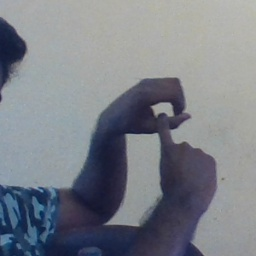Q: (112, 72, 227, 195)
